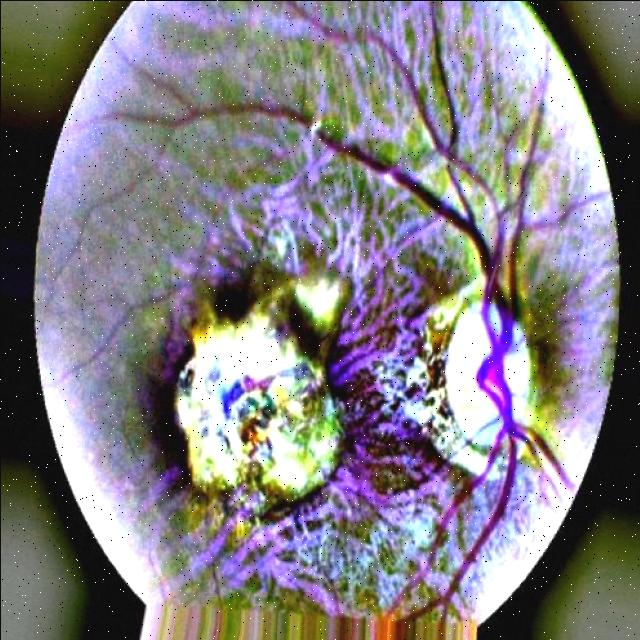Nerves: (320, 137, 526, 475)
Optic Disk: (444, 298, 499, 444), (502, 341, 530, 422)
